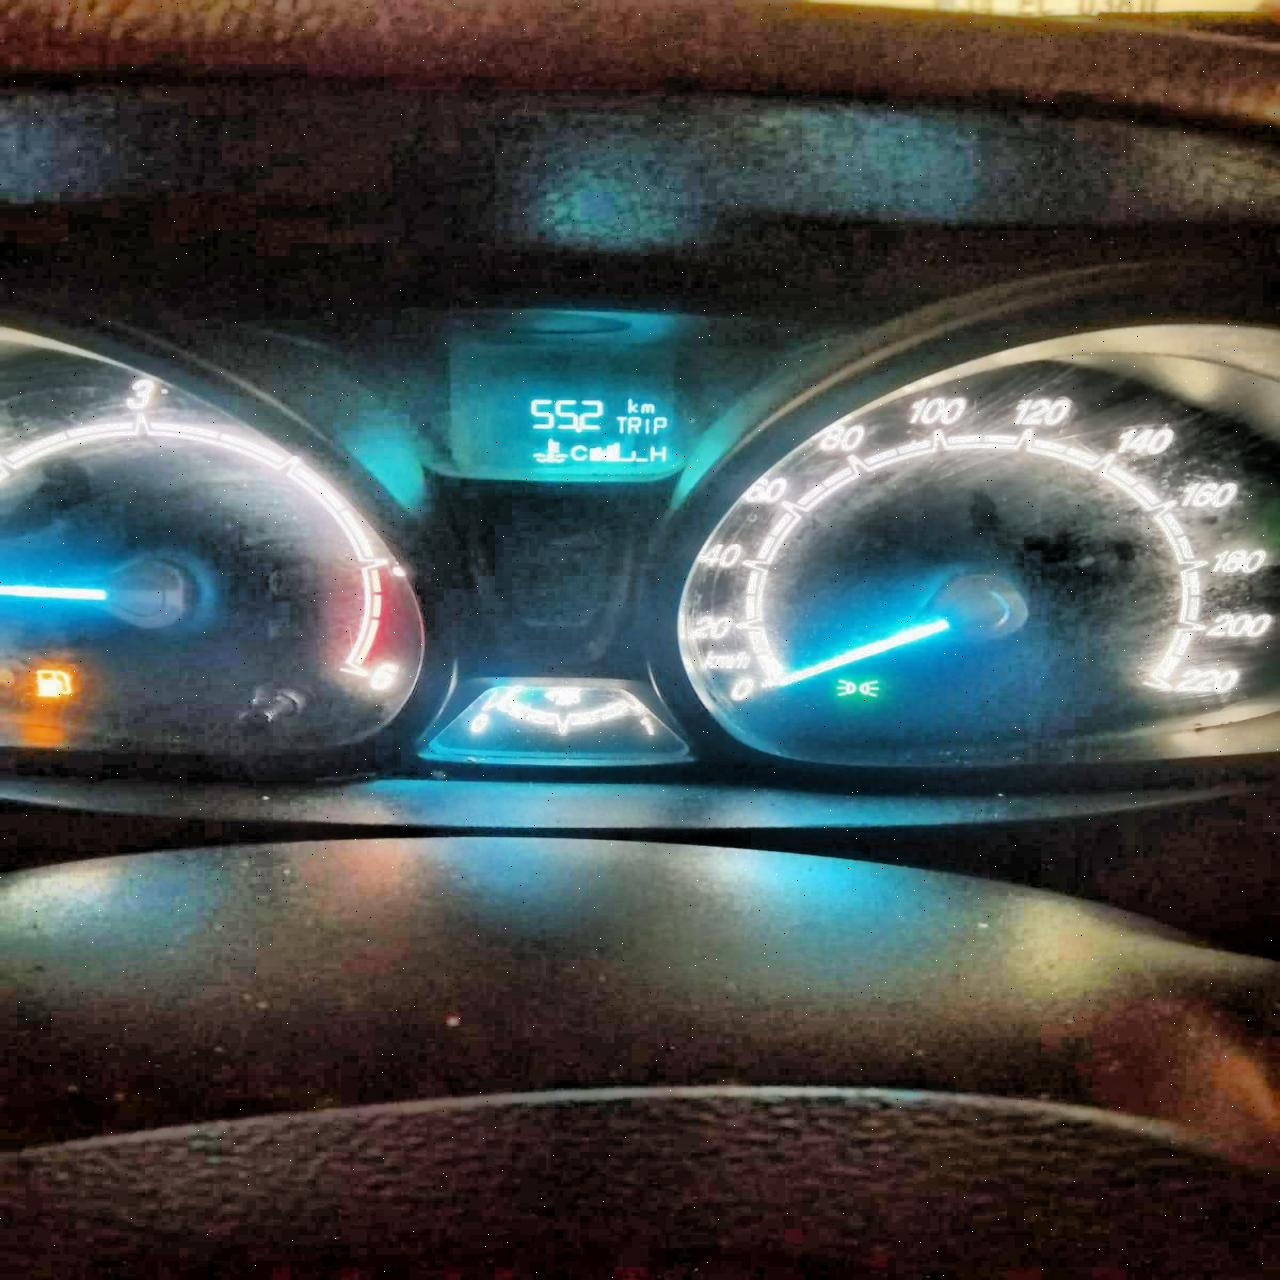-: (573, 427, 584, 433)
2: (578, 397, 607, 429)
5: (526, 396, 553, 428), (553, 396, 579, 428)
X: (648, 444, 666, 462), (568, 444, 587, 461), (653, 416, 669, 434), (627, 415, 641, 434), (626, 396, 639, 414), (614, 415, 625, 434), (641, 402, 655, 414), (645, 416, 651, 434)
odometer: (452, 376, 693, 479)
